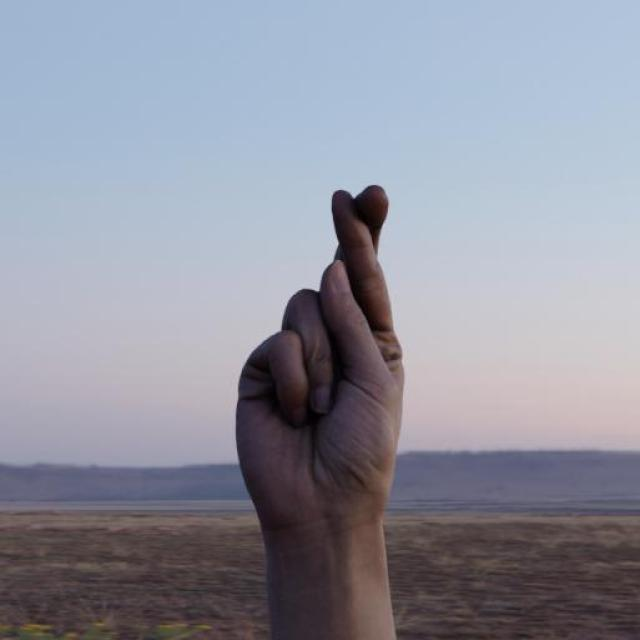R: (232, 182, 408, 534)
